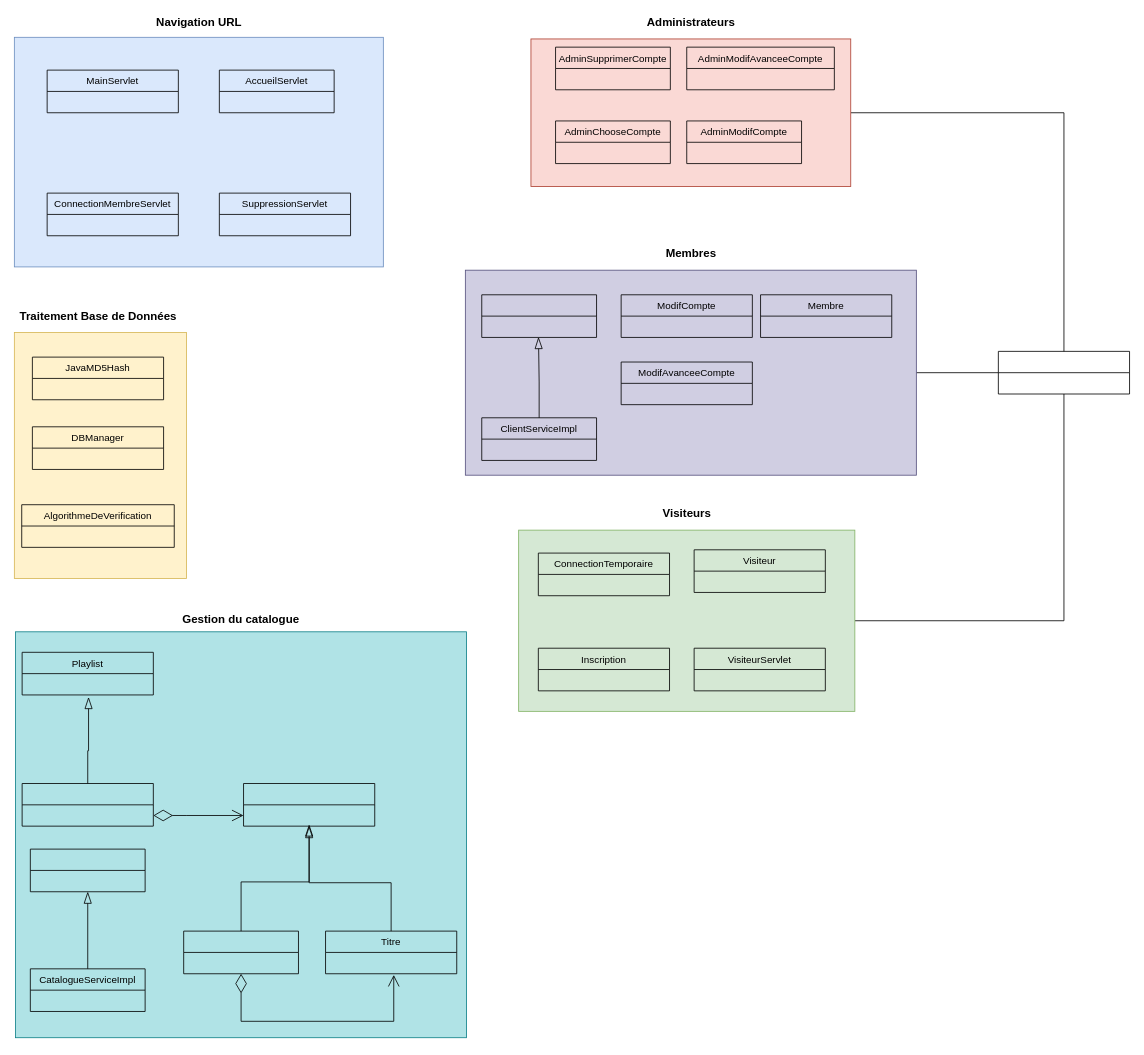
This 1144x1055 diagram has some shape labels left out. Here are the shapes that lost their labels. From the top down, the centre of each, then its label:
At (x=539, y=315): "ClientService".
At (x=1064, y=372): "Deconnection".
At (x=87, y=804): "PlaylistPerso".
At (x=309, y=804): "ElementDeCatalogue".
At (x=87, y=870): "CatalogueService".
At (x=240, y=952): "Album".
